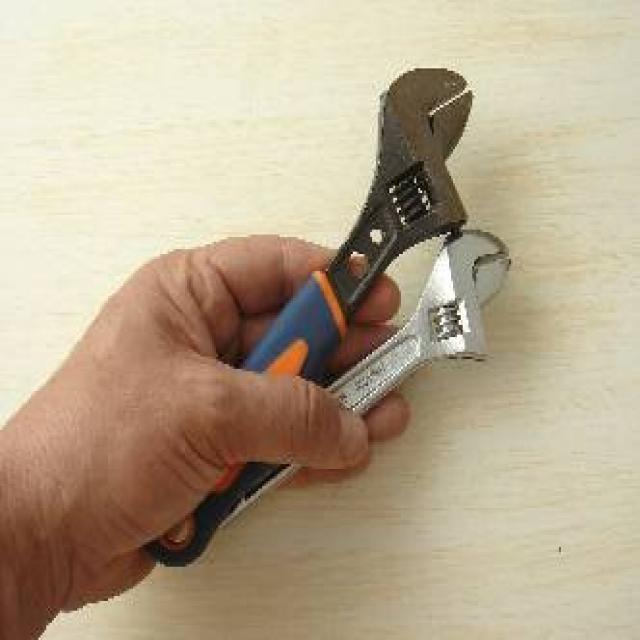wrench: (184, 52, 484, 462), (248, 222, 526, 524)
